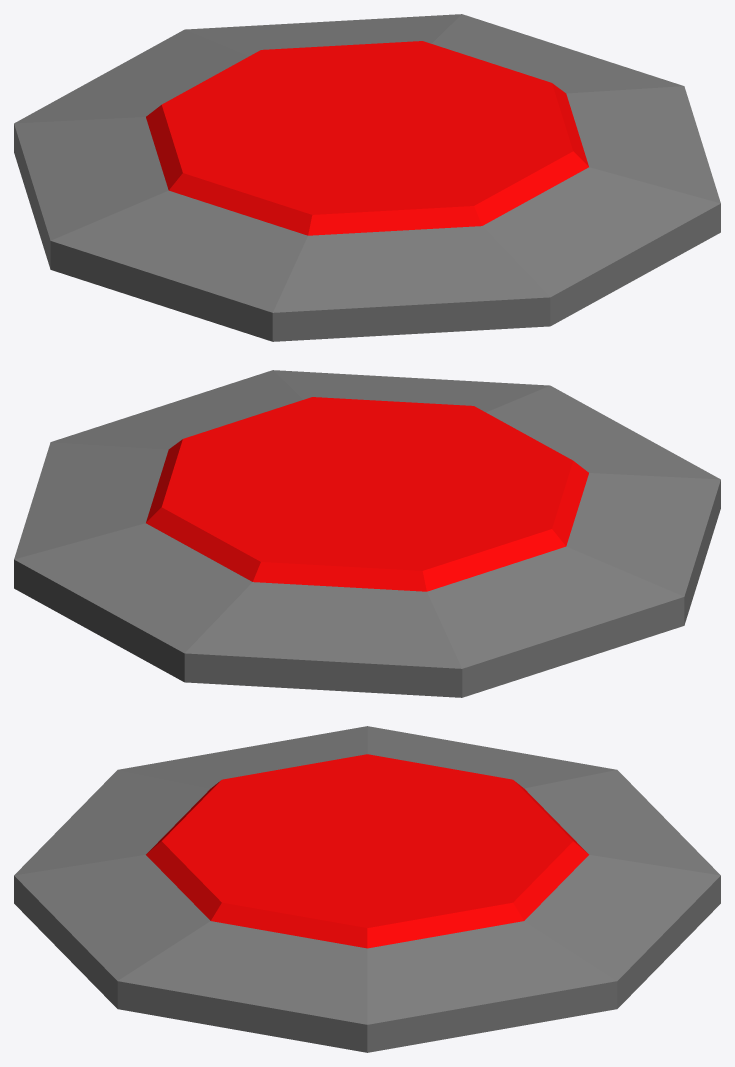
The model's file is pressure_plate_on.glb.
3 renders of one model, top to bottom at view 1: azimuth 30°, elevation 25°; view 2: azimuth 150°, elevation 25°; view 3: azimuth 270°, elevation 25°, orthographic. The views are drawn at different scales.
Visible parts, largest first — view 1: pressure_plate_on; view 2: pressure_plate_on; view 3: pressure_plate_on.
Boxes of the visible parts, x1,y1,x2,y2 form: pressure_plate_on: (14,14,720,341); pressure_plate_on: (14,370,720,697); pressure_plate_on: (14,726,720,1052).
Bounding box in the file's own units: 2 × 0.1946 × 2.
Materials: 1 (1 with a texture image).
